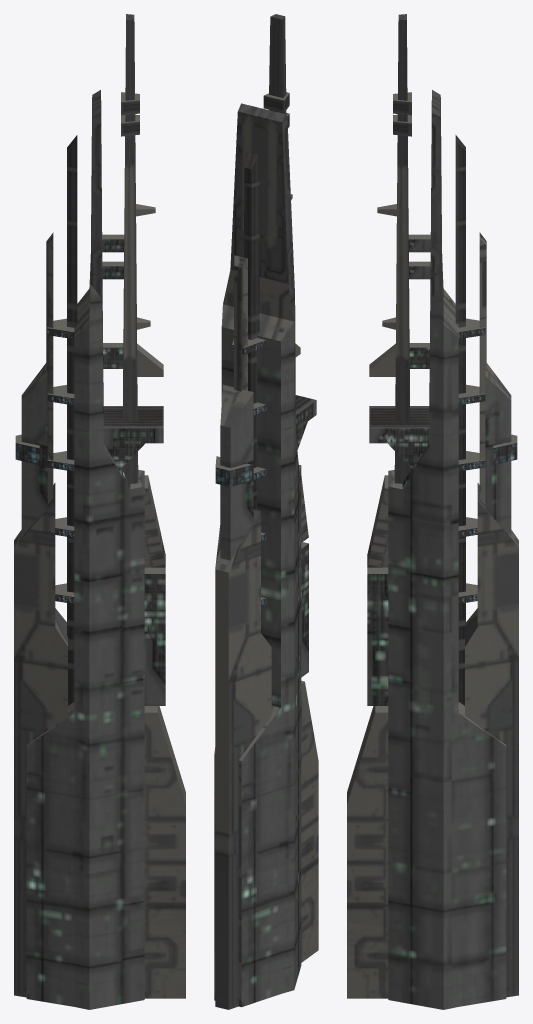
File: Skyscraper_distance_8.gltf
3 views of the same model, side by side, from view 1: azimuth 90°, elevation 25°; view 2: azimuth 150°, elevation 25°; view 3: azimuth 270°, elevation 25° (orthographic). The views are drawn at different scales.
Parts seen in each view (by area): view 1: Skyscraper_distance_8; view 2: Skyscraper_distance_8; view 3: Skyscraper_distance_8.
Boxes of the visible parts, x1,y1,x2,y2 form: Skyscraper_distance_8: [14, 14, 185, 1009]; Skyscraper_distance_8: [214, 14, 318, 1009]; Skyscraper_distance_8: [347, 14, 518, 1009].
Bounding box in the file's own units: 13.69 × 174 × 27.81.
Materials: 1 (1 with a texture image).
